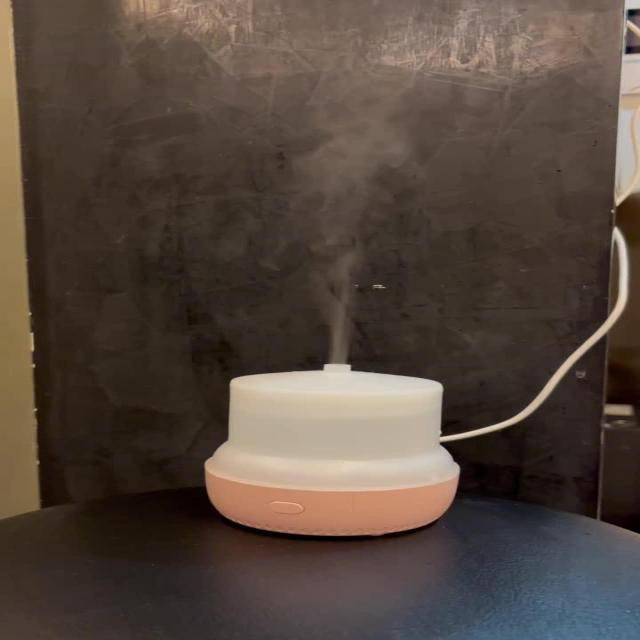fire: (297, 84, 400, 364)
